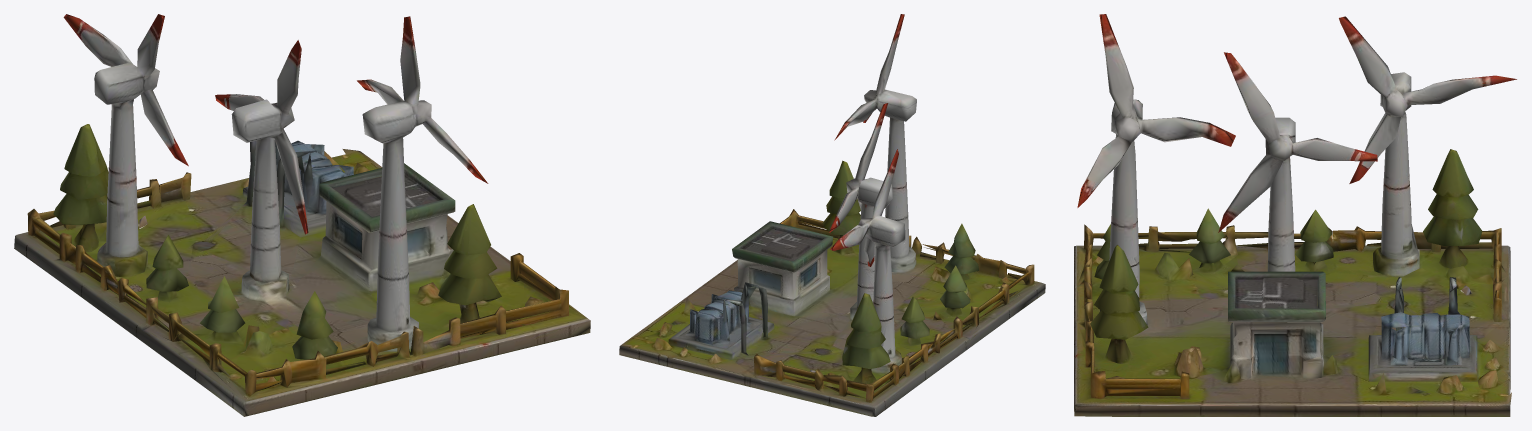
The model's file is wind_farm.glb.
The picture shows the model from 3 angles, left to right: view 1: azimuth 30°, elevation 25°; view 2: azimuth 150°, elevation 25°; view 3: azimuth 270°, elevation 25°; orthographic projection. The views are drawn at different scales.
Parts seen in each view (by area): view 1: tripo_node_2d972689-1987-4c68-884f-27158c6303e6; view 2: tripo_node_2d972689-1987-4c68-884f-27158c6303e6; view 3: tripo_node_2d972689-1987-4c68-884f-27158c6303e6.
Part boxes in pixels (left/top/right/bottom): tripo_node_2d972689-1987-4c68-884f-27158c6303e6: left=14, top=14, right=590, bottom=416; tripo_node_2d972689-1987-4c68-884f-27158c6303e6: left=619, top=14, right=1045, bottom=416; tripo_node_2d972689-1987-4c68-884f-27158c6303e6: left=1074, top=14, right=1516, bottom=416.
Bounding box in the file's own units: 1.57 × 1.49 × 1.84.
1 material, 1 textured.
